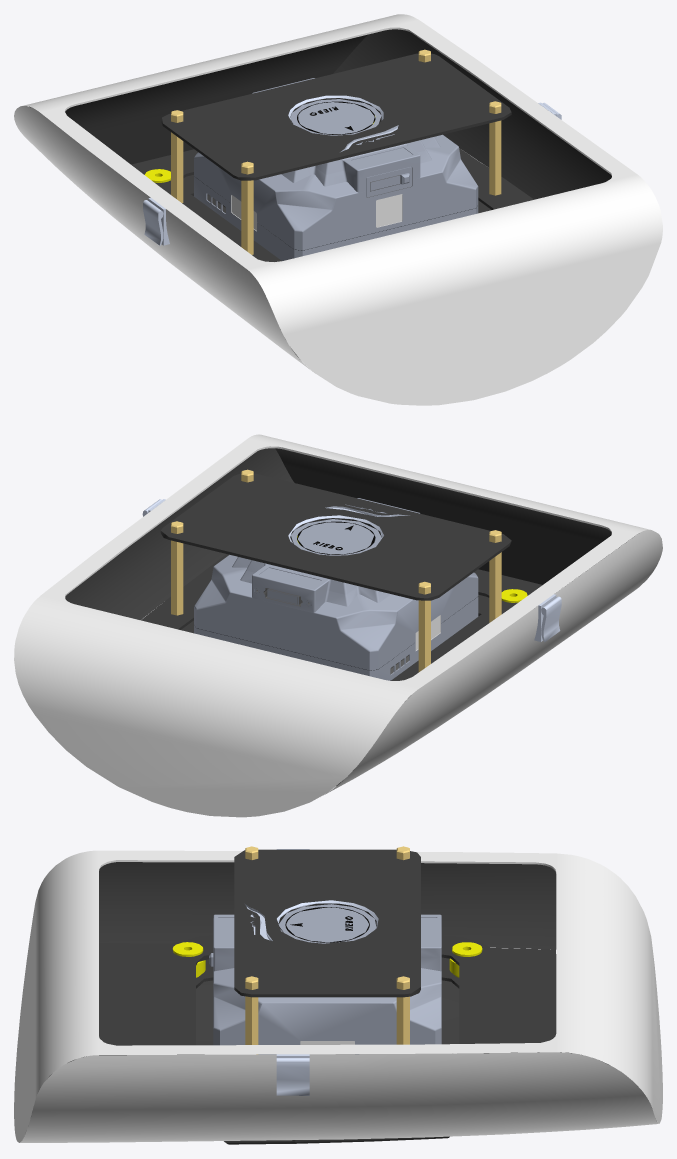
The model's file is RB_D2M_web.glb.
The picture shows the model from 3 angles, top to bottom: view 1: azimuth 30°, elevation 25°; view 2: azimuth 150°, elevation 25°; view 3: azimuth 270°, elevation 25°; orthographic projection. The views are drawn at different scales.
Visible parts, largest first — view 1: Payload - Copy-1, RB_D2M-1; view 2: Payload - Copy-1, RB_D2M-1; view 3: Payload - Copy-1, RB_D2M-1.
Boxes of the visible parts, box(x1,y1,x2,y2) form: Payload - Copy-1: box(14, 14, 662, 405); RB_D2M-1: box(194, 78, 478, 260); Payload - Copy-1: box(14, 434, 662, 817); RB_D2M-1: box(194, 498, 478, 680); Payload - Copy-1: box(14, 846, 662, 1144); RB_D2M-1: box(209, 903, 441, 1054).
Size of the model in its own units: 0.2281 by 0.1003 by 0.2956.
